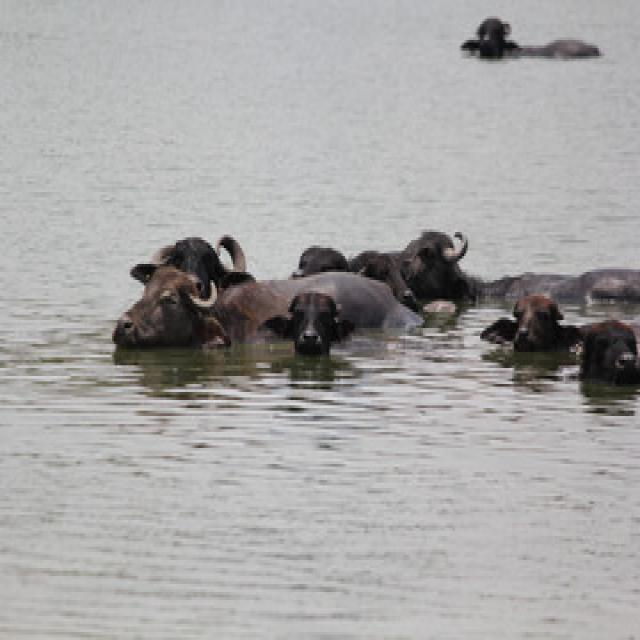Buffalo: (112, 257, 294, 361)
